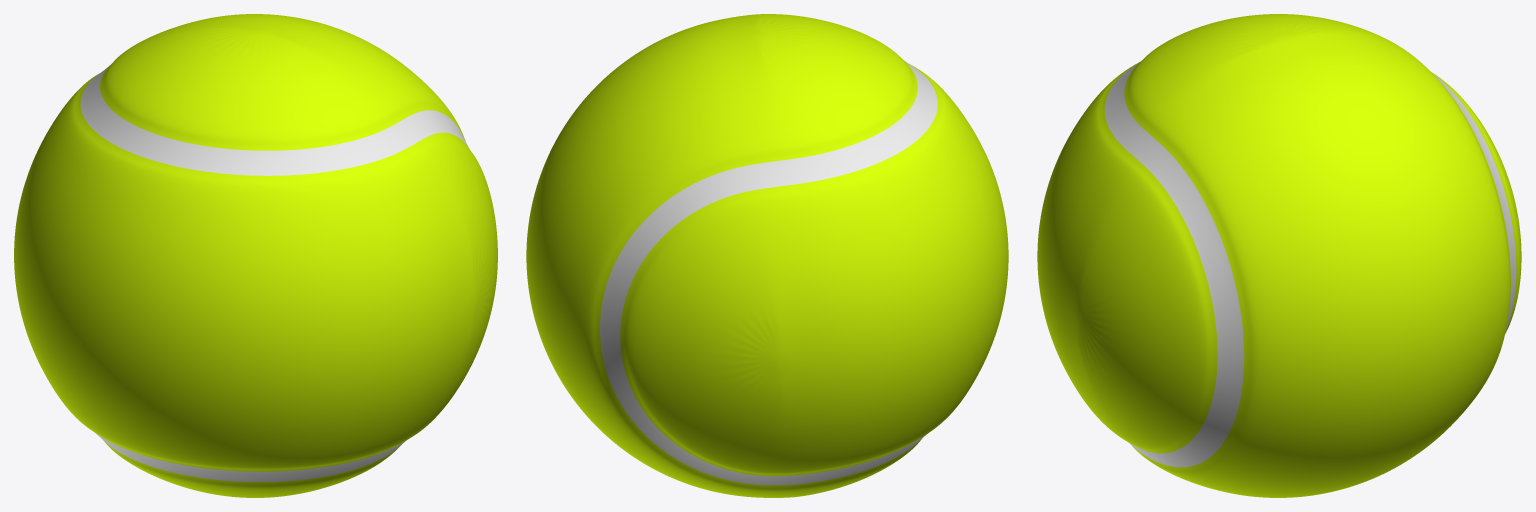
File: TennisBallMesh.fbx
3 views of the same model, side by side, from view 1: azimuth 30°, elevation 25°; view 2: azimuth 150°, elevation 25°; view 3: azimuth 270°, elevation 25° (orthographic).
Parts seen in each view (by area): view 1: Sphere; view 2: Sphere; view 3: Sphere.
Part boxes in pixels (x1,y1,x2,y2): Sphere: (14,14,497,497); Sphere: (526,14,1008,497); Sphere: (1037,14,1521,497).
Size of the model in its own units: 141 by 141 by 141.
